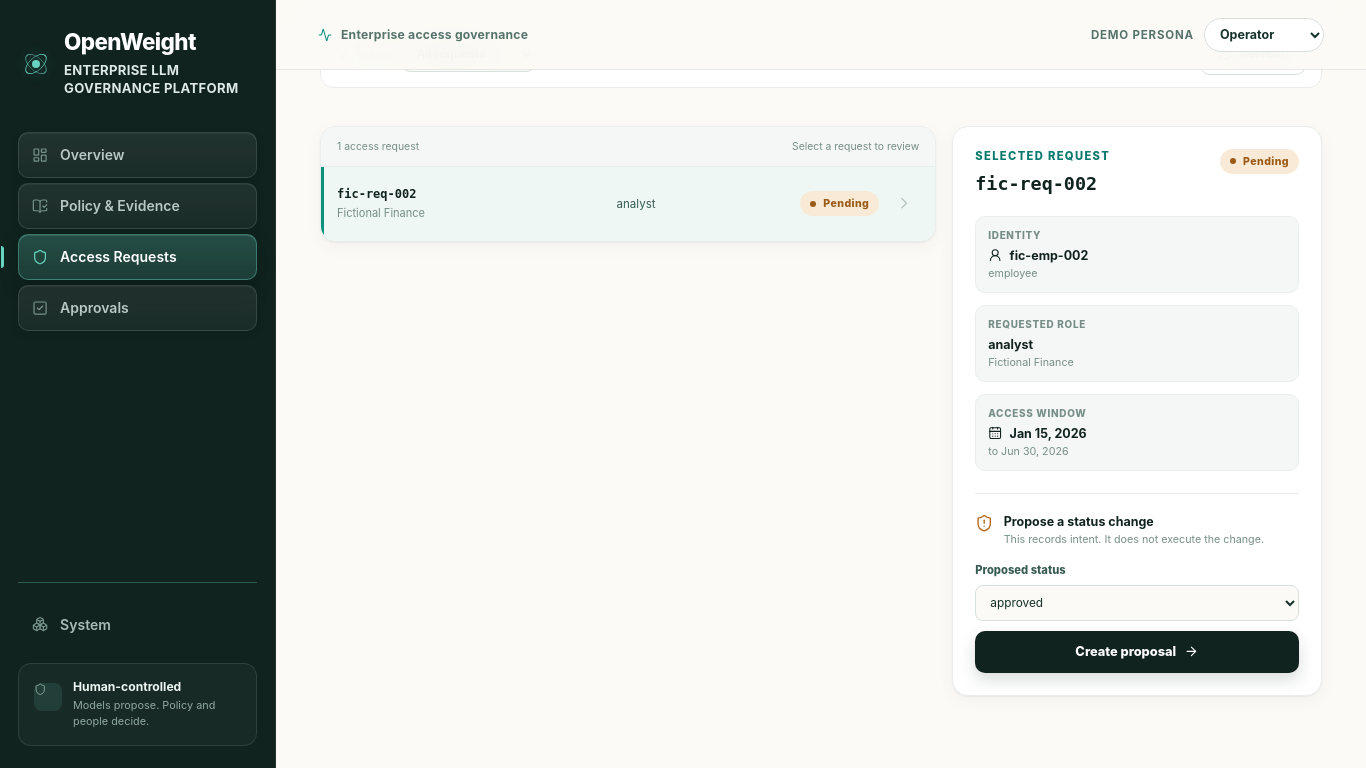
Test: access proposal and human approval flow › keeps proposal separate and performs one explicit approved resume
The width and height of the screenshot is (1366, 768).
(page scrolled)
expect the text "Fictional Finance" below "Select a request to review" is shown: met, box [337,206,425,220]
Click the button "Create proposal": (1137, 652) [975,630,1299,672]
(page scrolled)
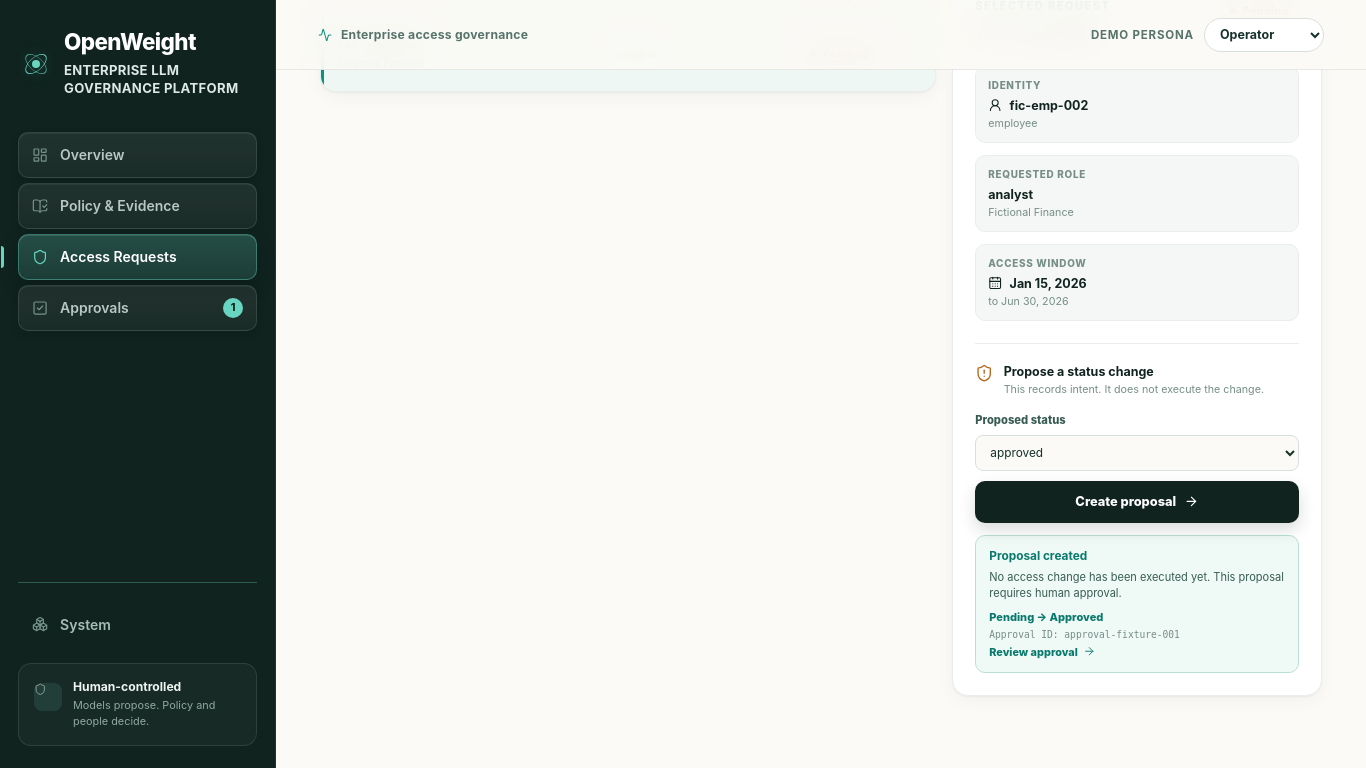
expect the text "Proposal created" is shown: met, box [989,548,1087,562]
expect the text "No access change has been executed yet" is shown: met, box [989,570,1284,600]
Click the button "Review approval": (1042, 652) [989,645,1095,659]
(page scrolled)
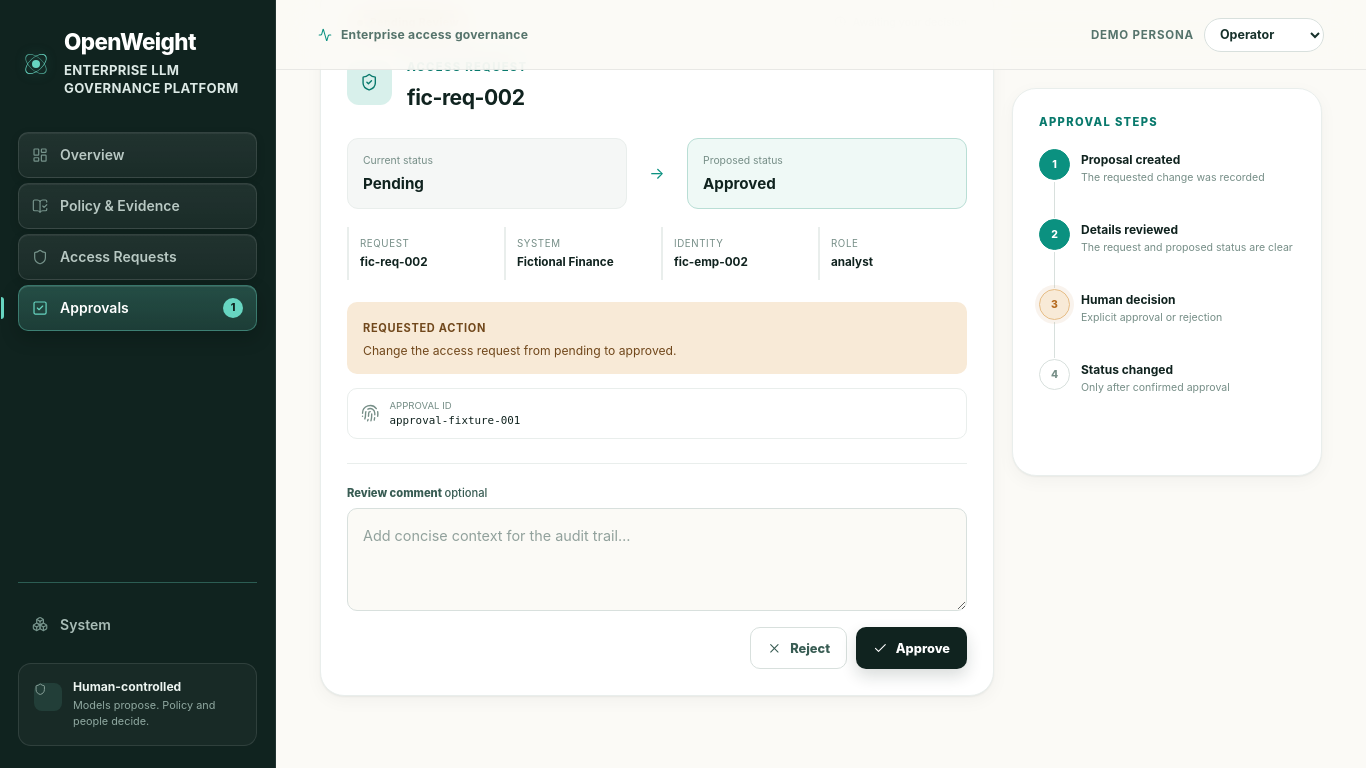
Click the button "Approve": (912, 648) [856,627,967,669]
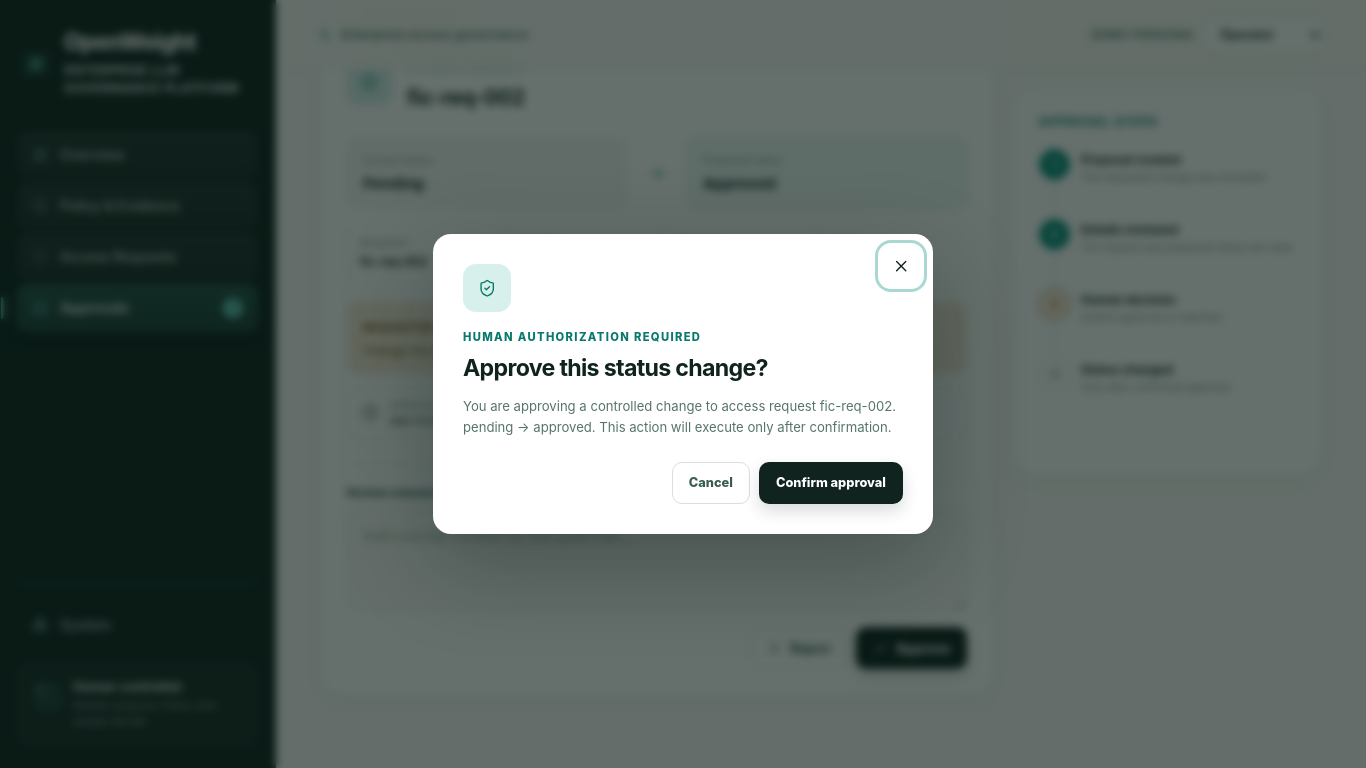
expect the text "This action will execute only after confirmation" is shown: met, box [463,398,896,434]
Click the button "Confirm approval": (831, 482) [759,462,903,504]
(page scrolled)
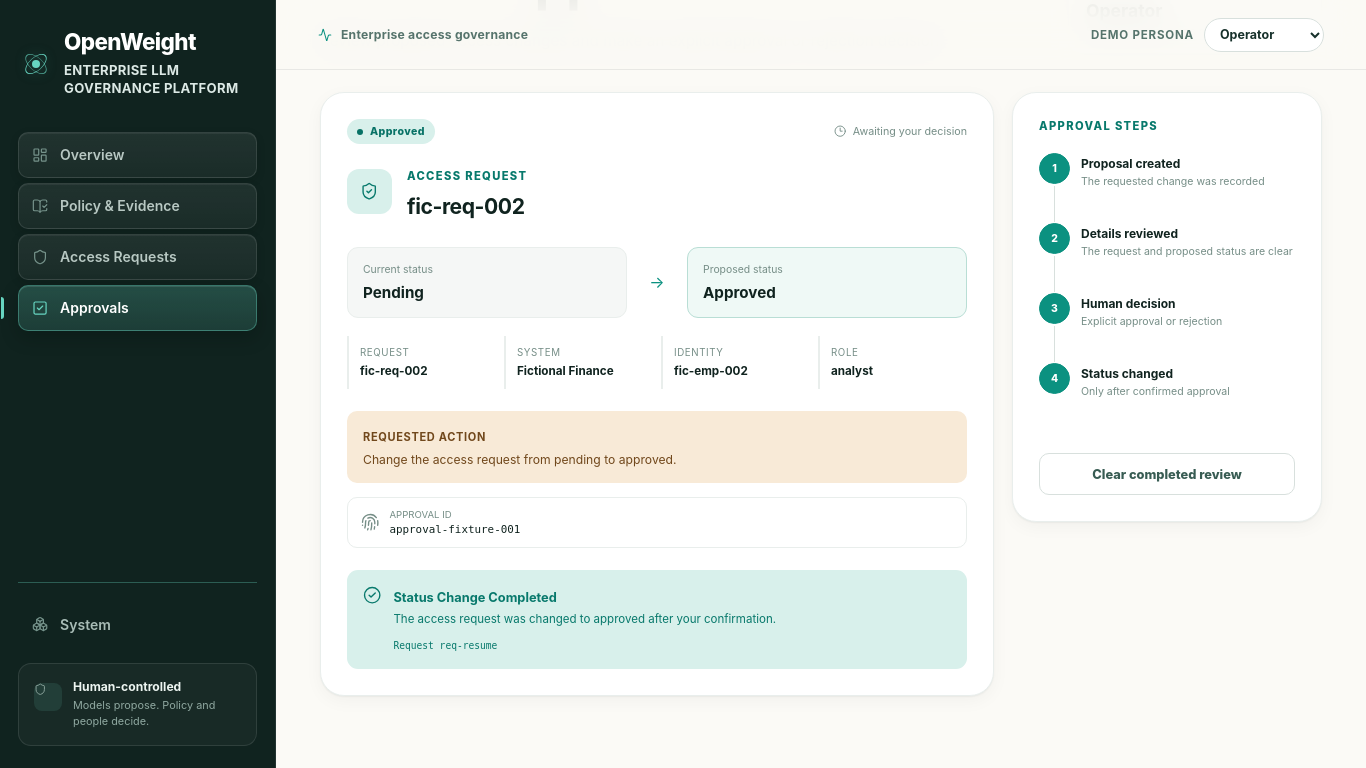
expect the text "Status change completed" is shown: met, box [393,590,557,605]
expect the text "changed to approved after your confirmation" is shown: met, box [393,612,776,626]
